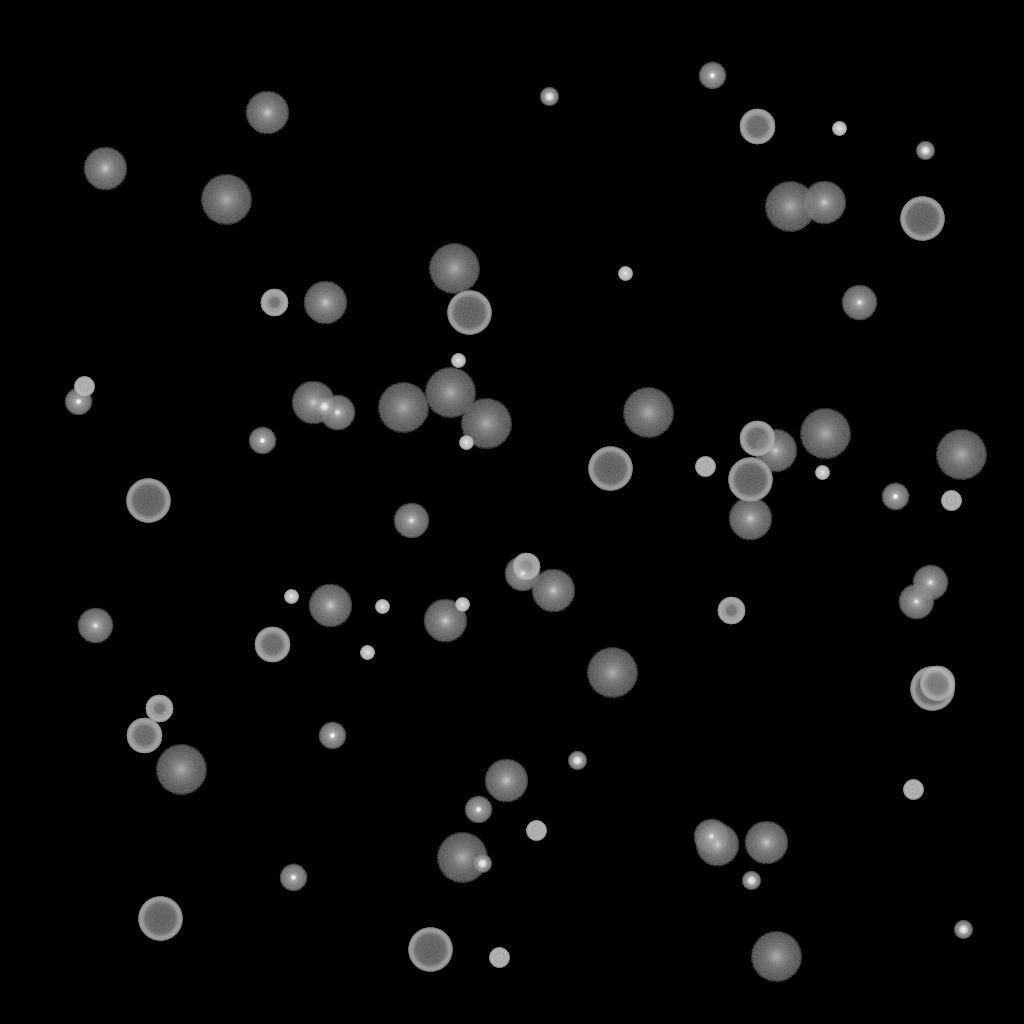depth:-10: (881, 483, 909, 511), (248, 427, 276, 455), (318, 722, 346, 750), (698, 62, 726, 90), (464, 796, 492, 824), (64, 388, 92, 416), (279, 864, 307, 892)
depth:-20: (954, 921, 972, 939), (473, 855, 491, 873), (742, 872, 760, 890), (916, 142, 934, 160), (568, 752, 586, 770), (315, 398, 333, 416), (540, 88, 558, 106)
depth:-30: (451, 354, 465, 368), (459, 436, 473, 450), (375, 600, 389, 614), (284, 590, 298, 604), (360, 646, 374, 660), (815, 466, 829, 480), (455, 598, 469, 612), (618, 267, 632, 281), (832, 122, 846, 136)
depth:-40: (903, 780, 923, 800), (695, 457, 715, 477), (941, 491, 961, 511), (74, 377, 94, 397), (526, 821, 546, 841), (489, 948, 509, 968)
depth:-50: (145, 695, 173, 723), (512, 553, 540, 581), (260, 289, 288, 317), (717, 597, 745, 625)
depth:-60: (254, 627, 290, 663), (919, 666, 955, 702), (739, 421, 775, 457), (739, 109, 775, 145), (126, 718, 162, 754)
depth:-70: (910, 667, 954, 711), (588, 447, 632, 491), (900, 197, 944, 241), (126, 479, 170, 523), (447, 291, 491, 335), (728, 458, 772, 502), (138, 897, 182, 941), (408, 928, 452, 972)
depth:0: (912, 565, 948, 601), (77, 608, 113, 644), (898, 584, 934, 620), (393, 503, 429, 539), (841, 285, 877, 321), (504, 556, 540, 592), (319, 395, 355, 431), (693, 819, 729, 855)
depth:10: (245, 91, 289, 135), (728, 497, 772, 541), (291, 381, 335, 425), (423, 599, 467, 643), (83, 147, 127, 191), (308, 584, 352, 628), (303, 281, 347, 325), (531, 569, 575, 613), (802, 181, 846, 225), (484, 759, 528, 803), (744, 821, 788, 865), (695, 823, 739, 867), (753, 429, 797, 473)
depth:20: (622, 388, 674, 438), (460, 399, 512, 449), (377, 383, 429, 433), (428, 244, 480, 294), (799, 409, 851, 459), (436, 833, 488, 883), (586, 648, 638, 698), (155, 745, 207, 795), (764, 182, 816, 232), (750, 932, 802, 982), (935, 430, 987, 480), (424, 368, 476, 418), (200, 175, 252, 225)
